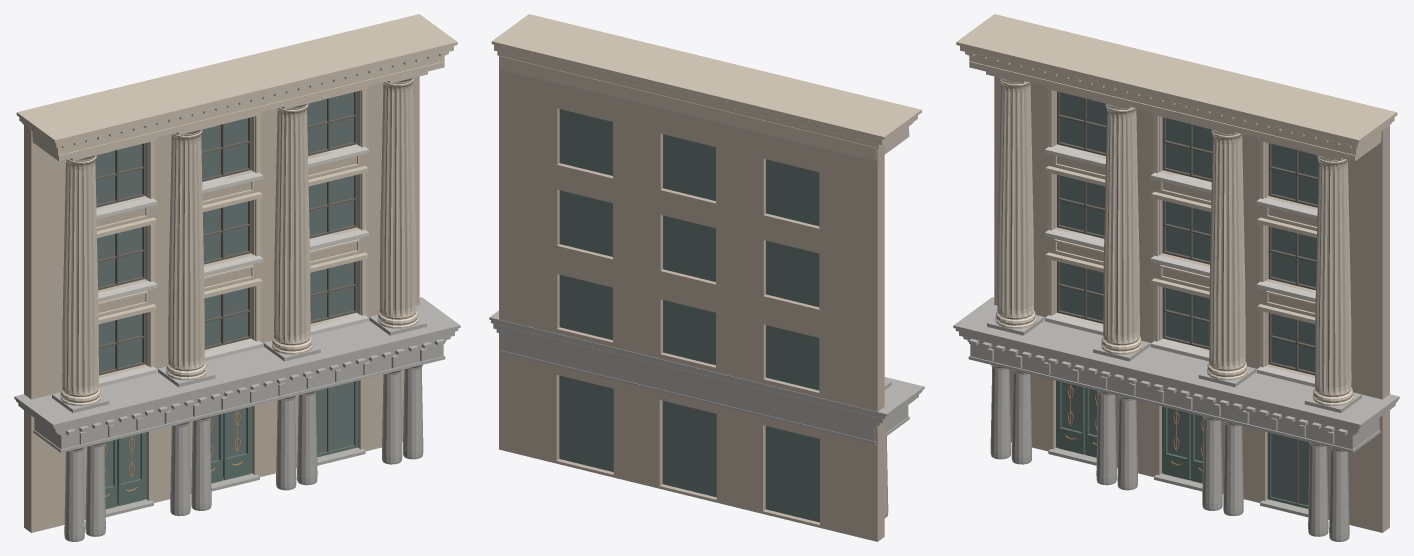
File: huangpu-china-south-sea-bank-front-lod.glb
3 renders of one model, left to right at view 1: azimuth 30°, elevation 25°; view 2: azimuth 150°, elevation 25°; view 3: azimuth 330°, elevation 25°, orthographic. The views are drawn at different scales.
Parts seen in each view (by area): view 1: 中南银行大楼汉口路南立面中央柱列; view 2: 中南银行大楼汉口路南立面中央柱列; view 3: 中南银行大楼汉口路南立面中央柱列.
Boxes of the visible parts, x1,y1,x2,y2 form: 中南银行大楼汉口路南立面中央柱列: (14, 14, 460, 541); 中南银行大楼汉口路南立面中央柱列: (489, 14, 924, 541); 中南银行大楼汉口路南立面中央柱列: (953, 14, 1399, 541).
Bounding box in the file's own units: 16.94 × 16.57 × 2.82.
